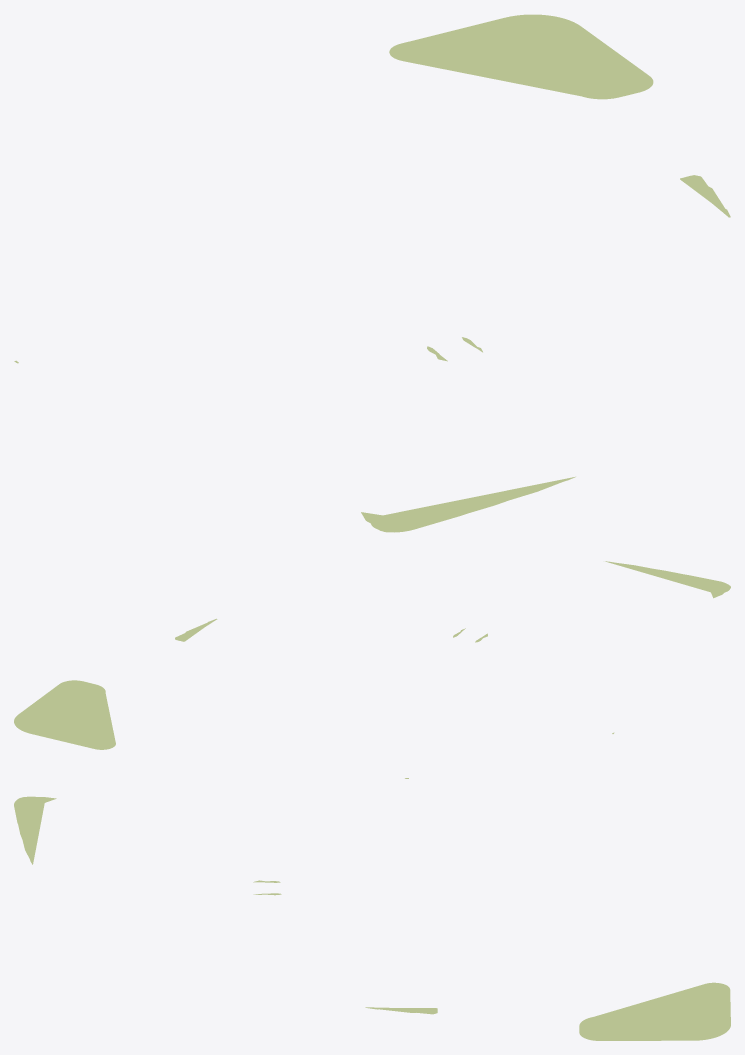
Rendered from 549a3baa-f297-4798-9b2e-6226fd37248e.glb.
3 renders of one model, top to bottom at view 1: azimuth 30°, elevation 25°; view 2: azimuth 150°, elevation 25°; view 3: azimuth 270°, elevation 25°, orthographic. The views are drawn at different scales.
Visible parts, largest first — view 1: 543; view 2: 543; view 3: 543.
Boxes of the visible parts, x1,y1,x2,y2 form: 543: (14, 14, 730, 532); 543: (14, 561, 730, 749); 543: (14, 778, 730, 1040).
Bounding box in the file's own units: 256 × 6.1 × 299.
